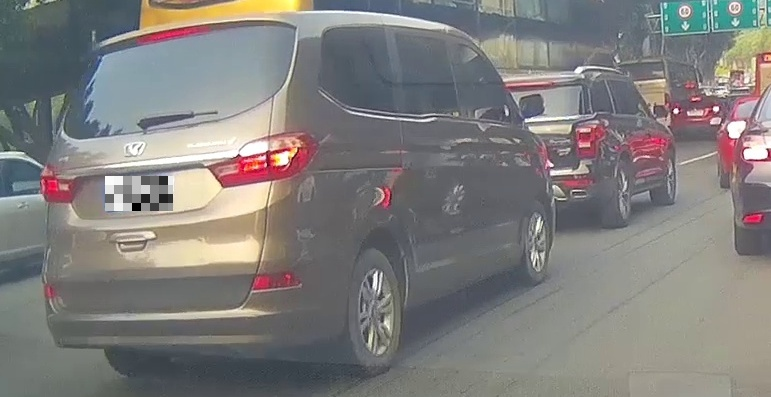L_light: (42, 166, 84, 203)
R_light: (205, 131, 320, 187)
T_light: (146, 26, 195, 42)
day-brake: (41, 11, 323, 378)
plate_1: (105, 176, 173, 211)
